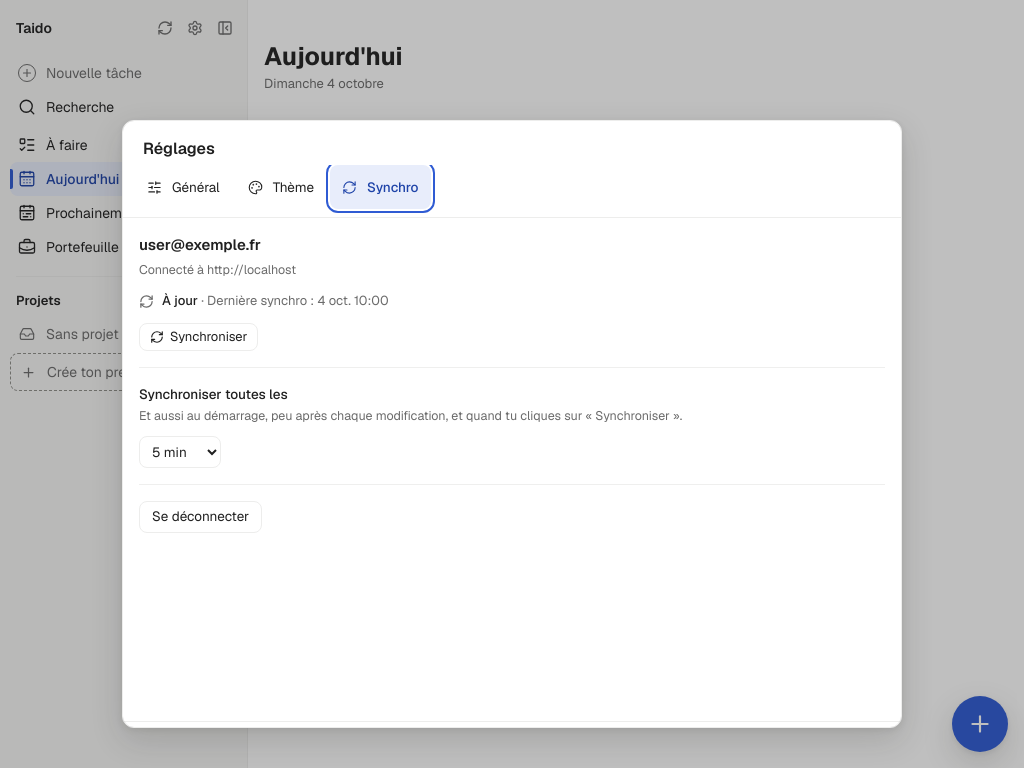
it: Réglages › Synchro on the phone › warns before logging out when the last sync fails or leaves changes
Expected: the text "user@exemple.fr" is shown, x1=139 y1=235 x2=261 y2=254
Click the button "Se déconnecter".
click(201, 516)  # box x1=139 y1=500 x2=262 y2=532
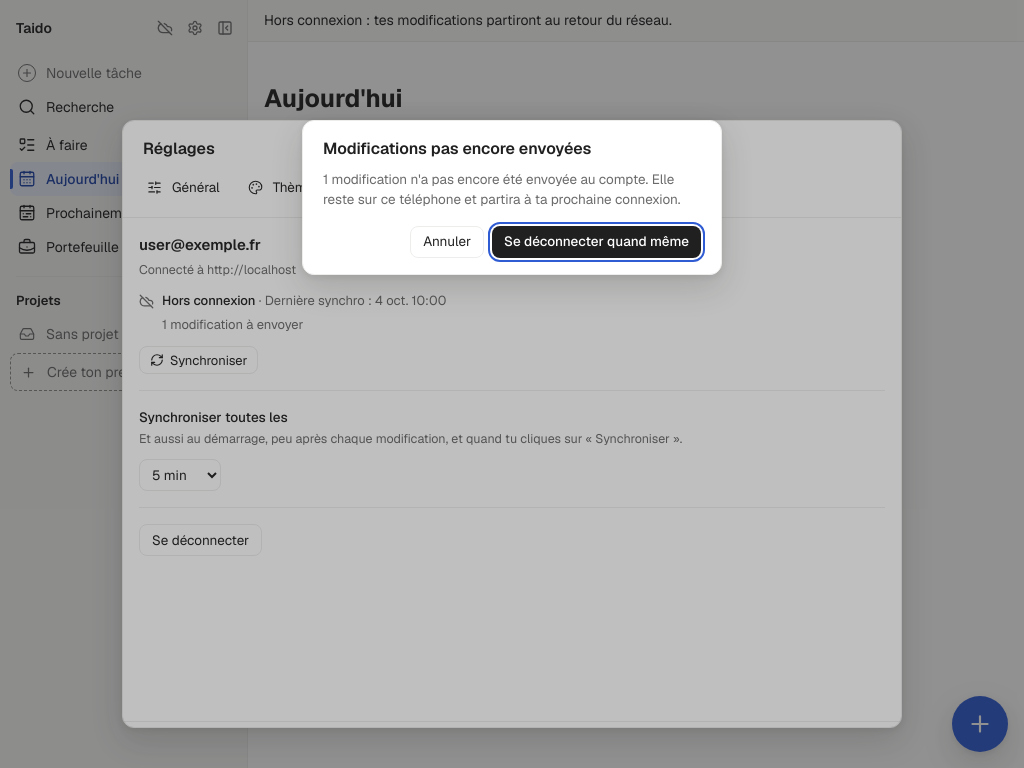
Click the button "Annuler".
click(447, 242)  # box x1=410 y1=226 x2=484 y2=258
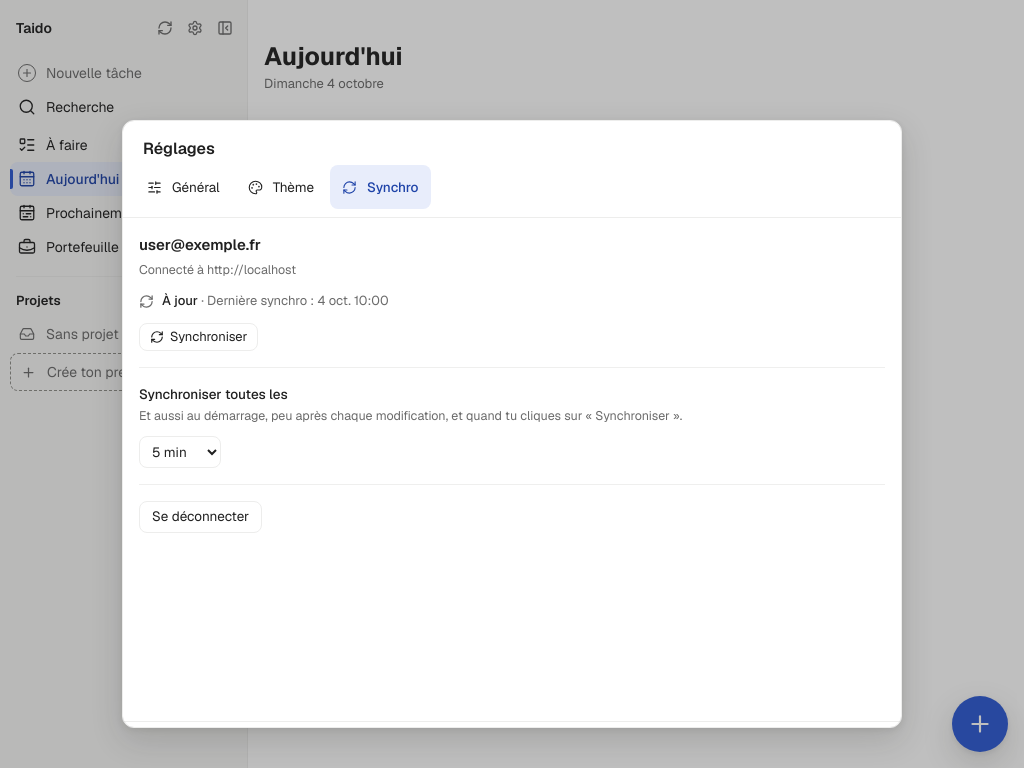
Click the button "Se déconnecter".
click(201, 516)  # box x1=139 y1=500 x2=262 y2=532
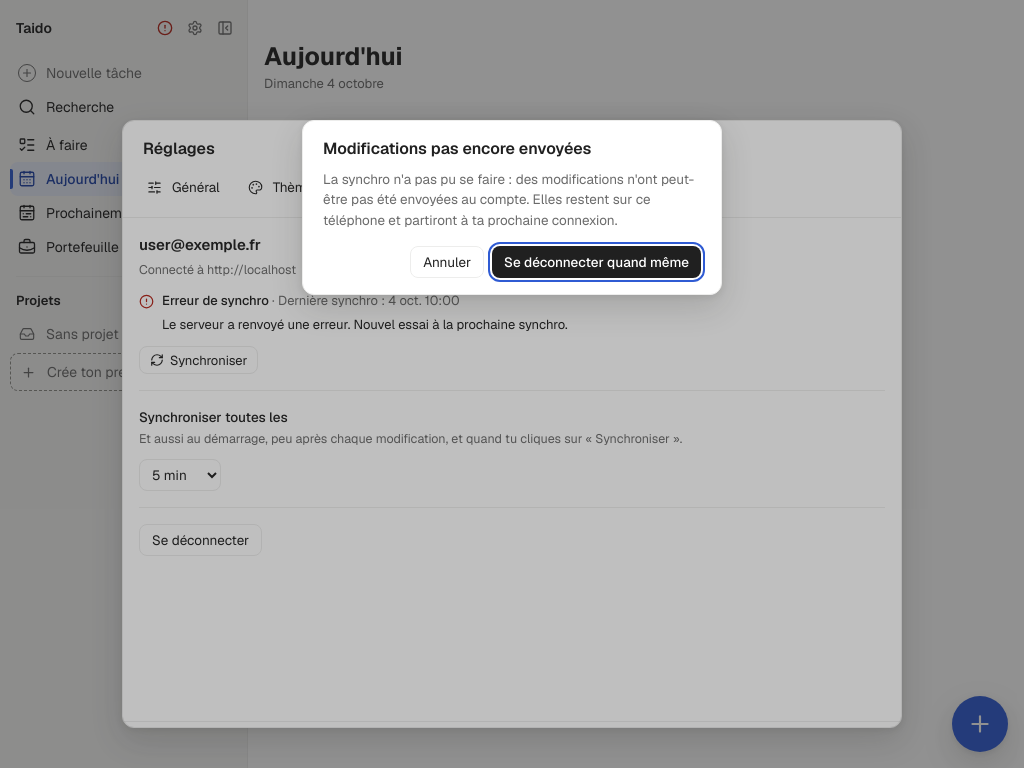
Click the button "Se déconnecter quand même".
click(596, 262)  # box x1=492 y1=246 x2=701 y2=278
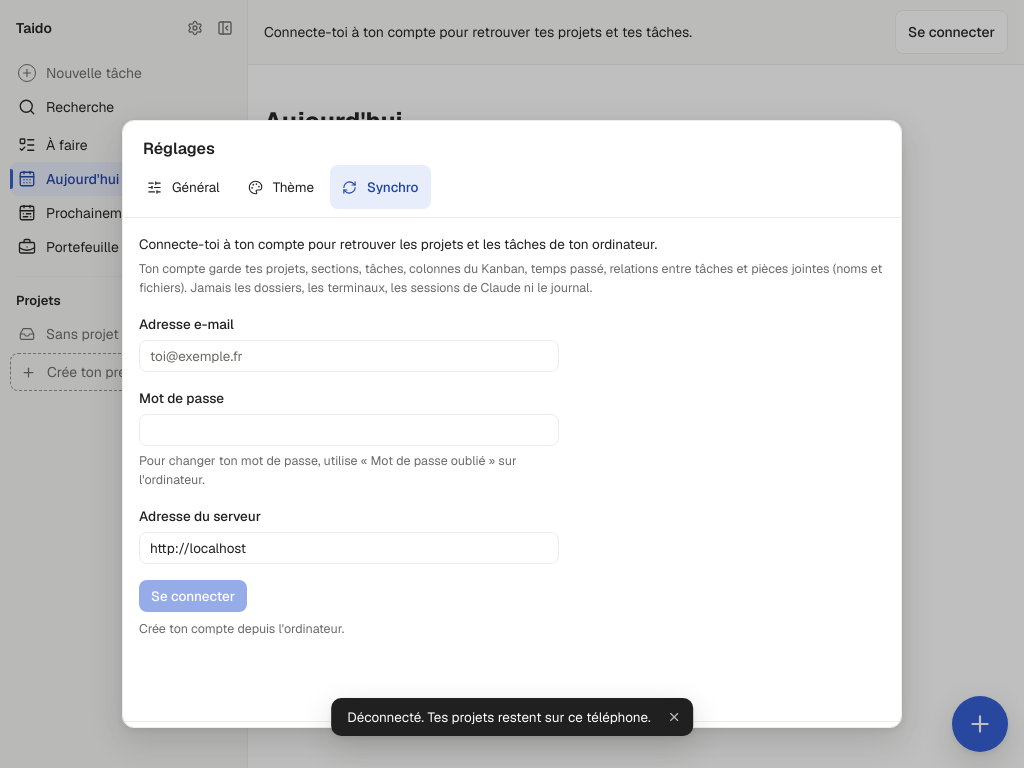
Expected: the field labelled "Adresse e-mail" is shown, x1=139 y1=340 x2=559 y2=372
